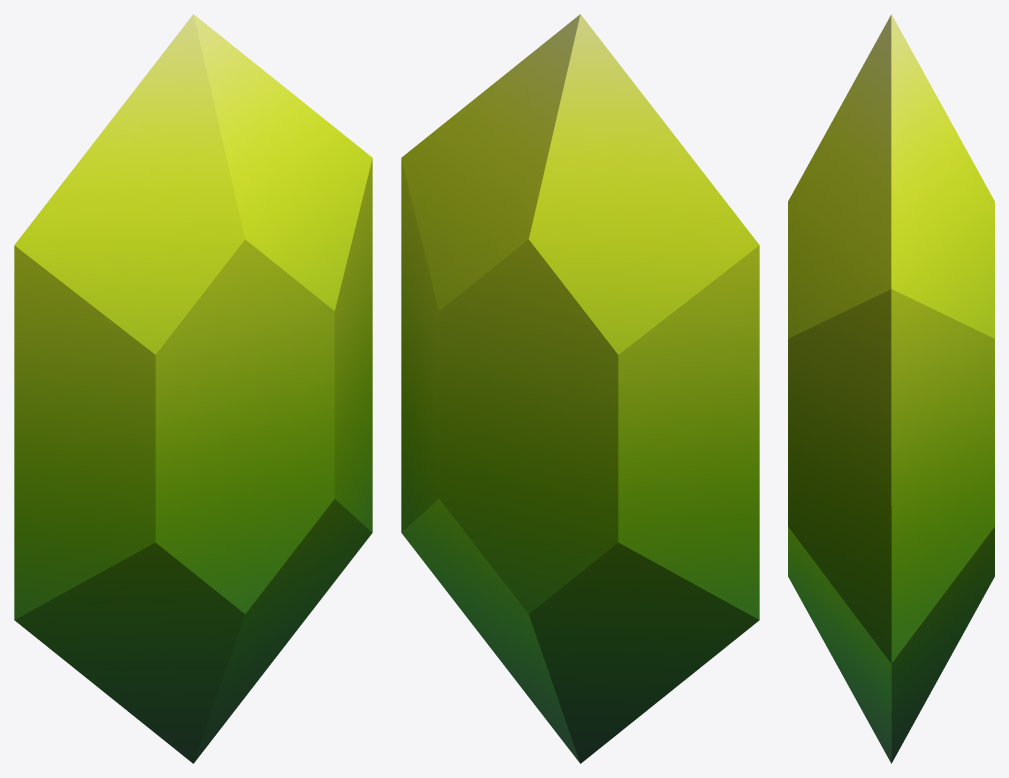
Rendered from gem1.glb.
3 renders of one model, left to right at view 1: azimuth 30°, elevation 25°; view 2: azimuth 150°, elevation 25°; view 3: azimuth 270°, elevation 25°, orthographic.
Visible parts, largest first — view 1: Gem12; view 2: Gem12; view 3: Gem12.
Part boxes in pixels (<box>): Gem12: <box>14,14,372,763</box>; Gem12: <box>401,14,759,763</box>; Gem12: <box>788,14,994,763</box>.
Bounding box in the file's own units: 0.5 × 1 × 0.25.
1 material, 1 textured.
